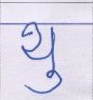u_matra: (22, 69, 65, 95)
